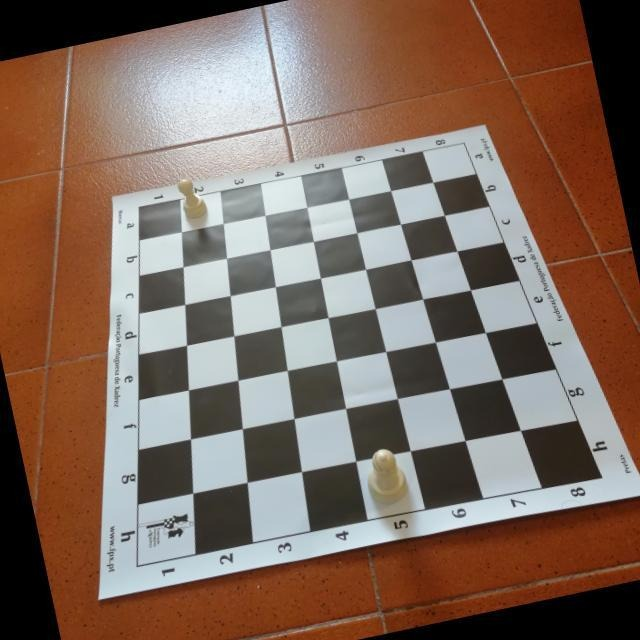white-bishop: (360, 443, 412, 509)
white-pawn: (175, 174, 209, 221)
